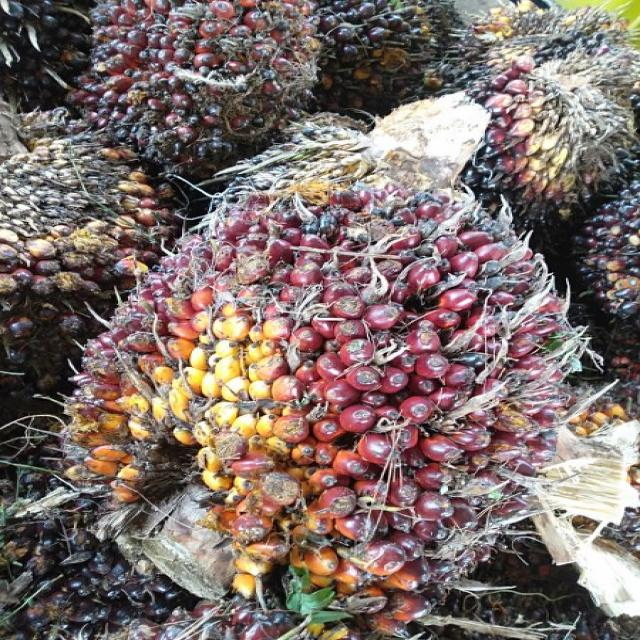fraksi 1: (49, 149, 593, 608)
